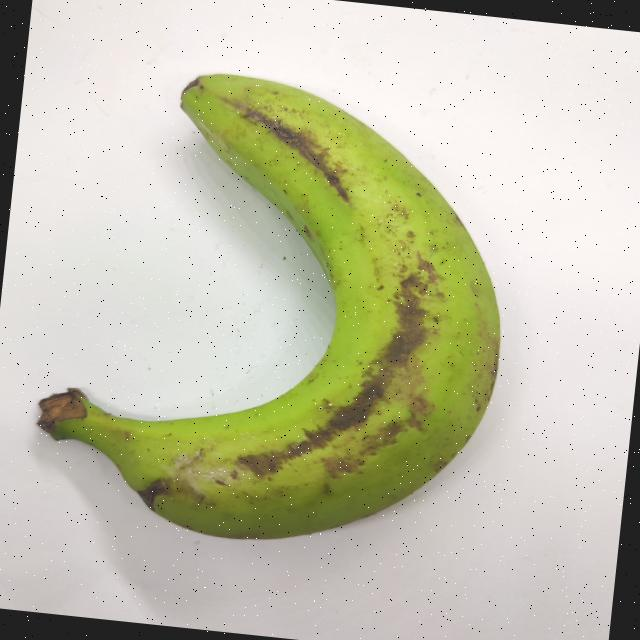Raw: (0, 20, 612, 609)
